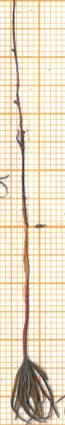flower: (0, 357, 61, 425)
root: (9, 0, 31, 226)
stem: (18, 227, 39, 358)
